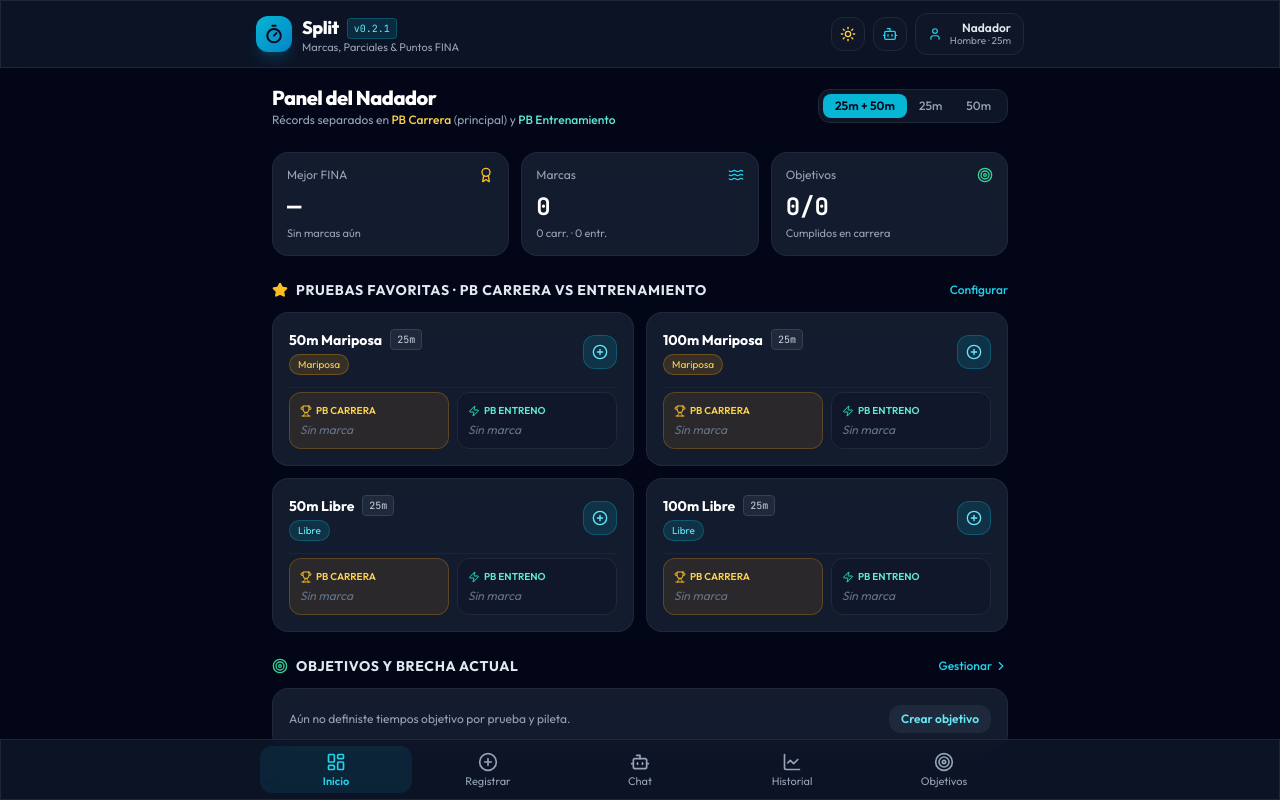
App Integration & Flujo Completo de Usuario › permite navegar entre pestañas mediante la barra de navegación inferior
Ir a Registrar
Click the button "Registrar": (488, 770) [412,746,564,793]
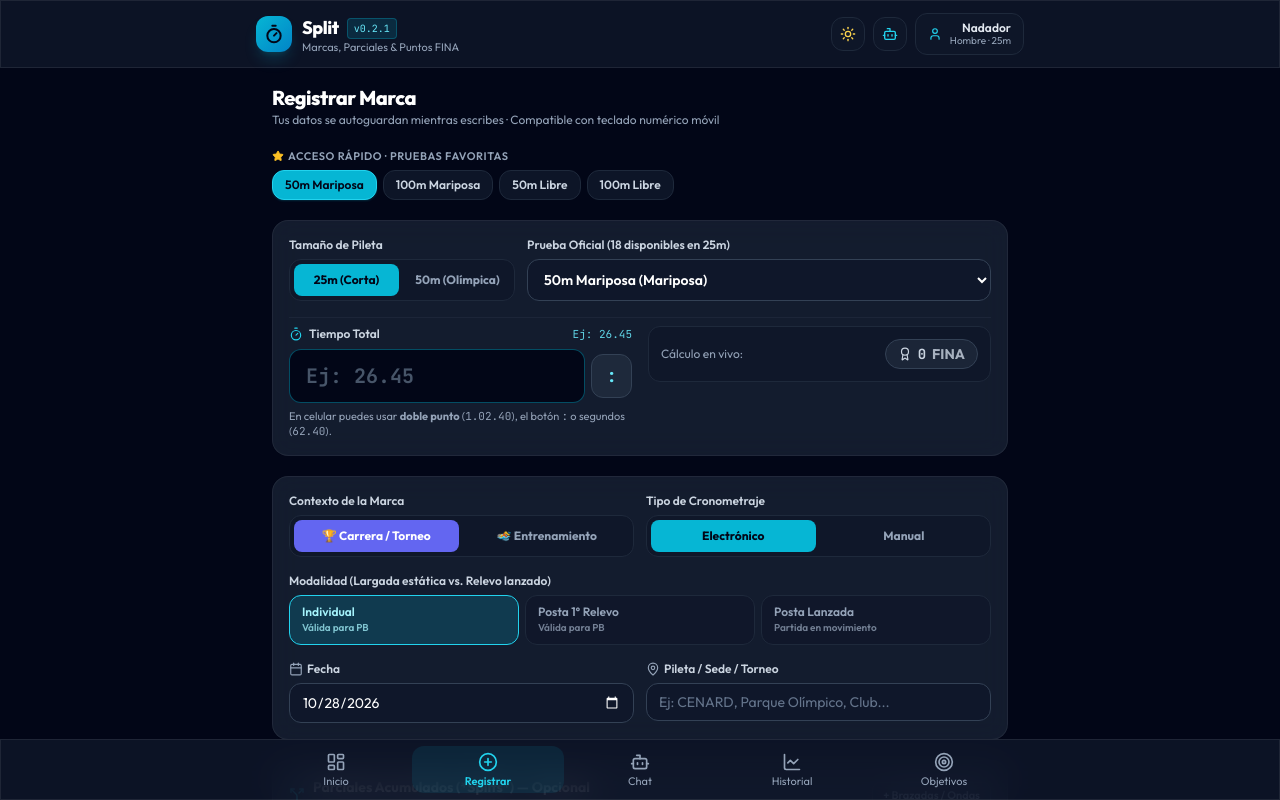
Result: the heading "Registrar Marca" is shown at [272,84,416,110]
Ir a Historial
Click the button "Historial": (792, 770) [716,746,868,793]
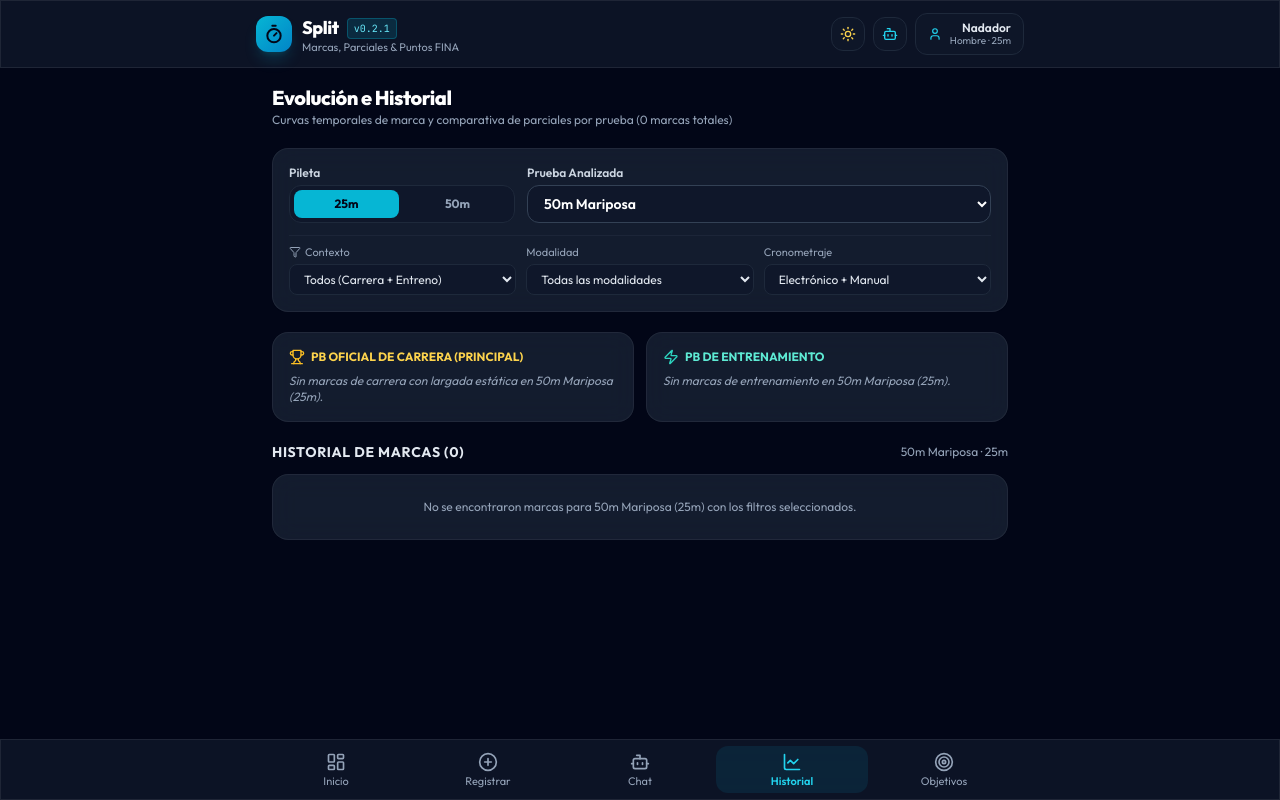
Result: the heading "Evolución e Historial" is shown at [272,84,451,110]
Ir a Chat
Click the button "Chat": (640, 770) [564,746,716,793]
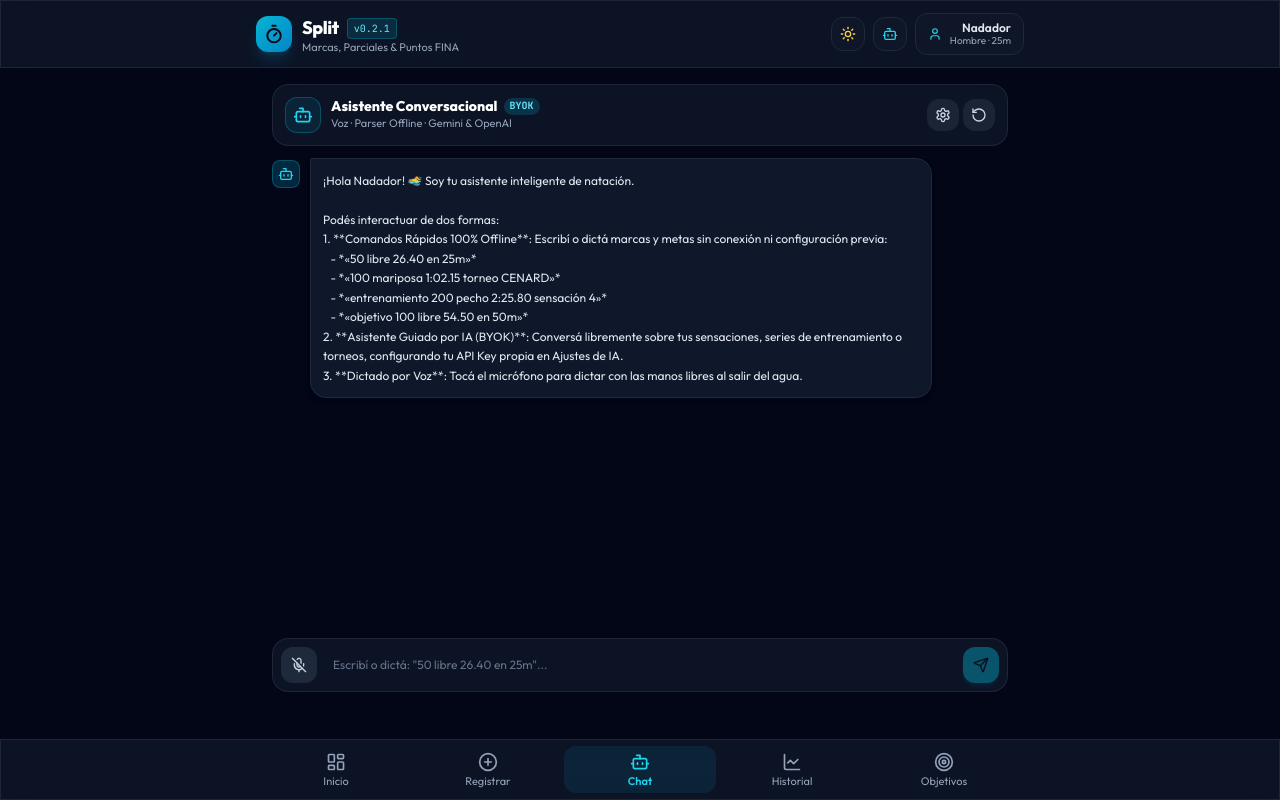
Result: the heading "Asistente Conversacional BYOK" is shown at [331,98,540,115]
Ir a Objetivos
Click the button "Objetivos": (944, 770) [868,746,1020,793]
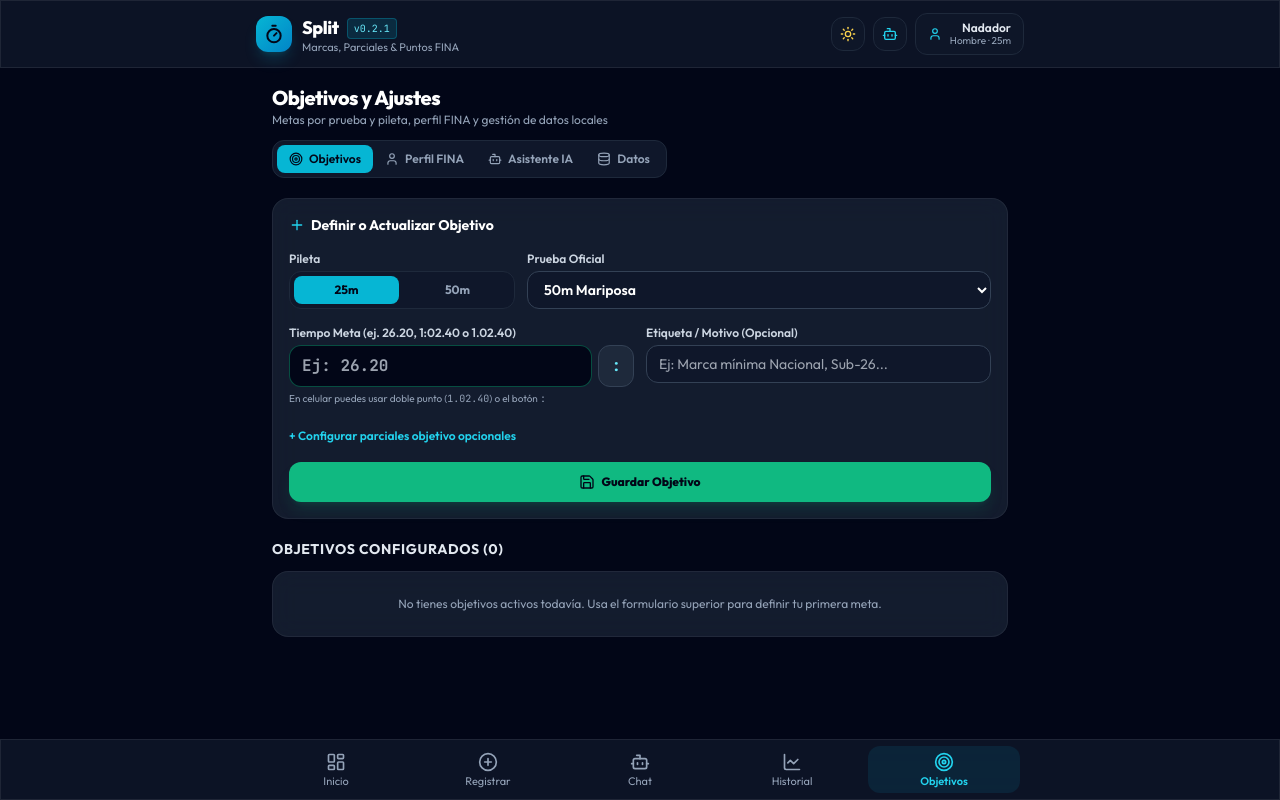
Result: the heading "Objetivos y Ajustes" is shown at [272,84,440,110]
